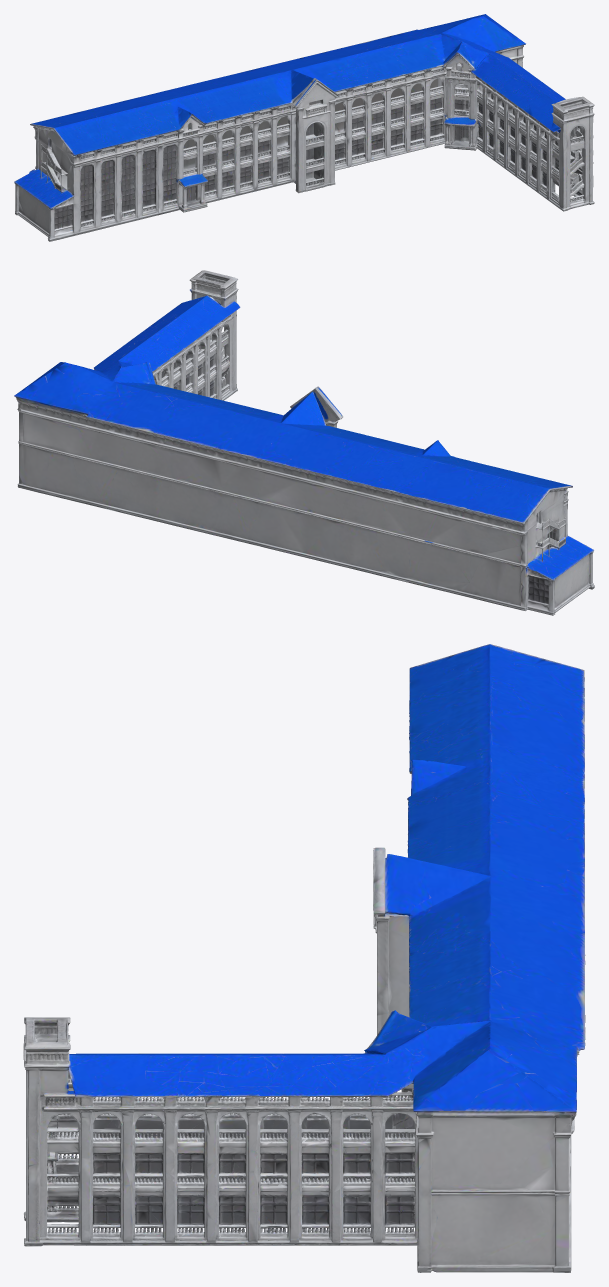
File: toa_b.glb
3 renders of one model, top to bottom at view 1: azimuth 30°, elevation 25°; view 2: azimuth 150°, elevation 25°; view 3: azimuth 270°, elevation 25°, orthographic. The views are drawn at different scales.
Size of the model in its own units: 1.9 by 0.4206 by 0.973.
1 material, 1 textured.
